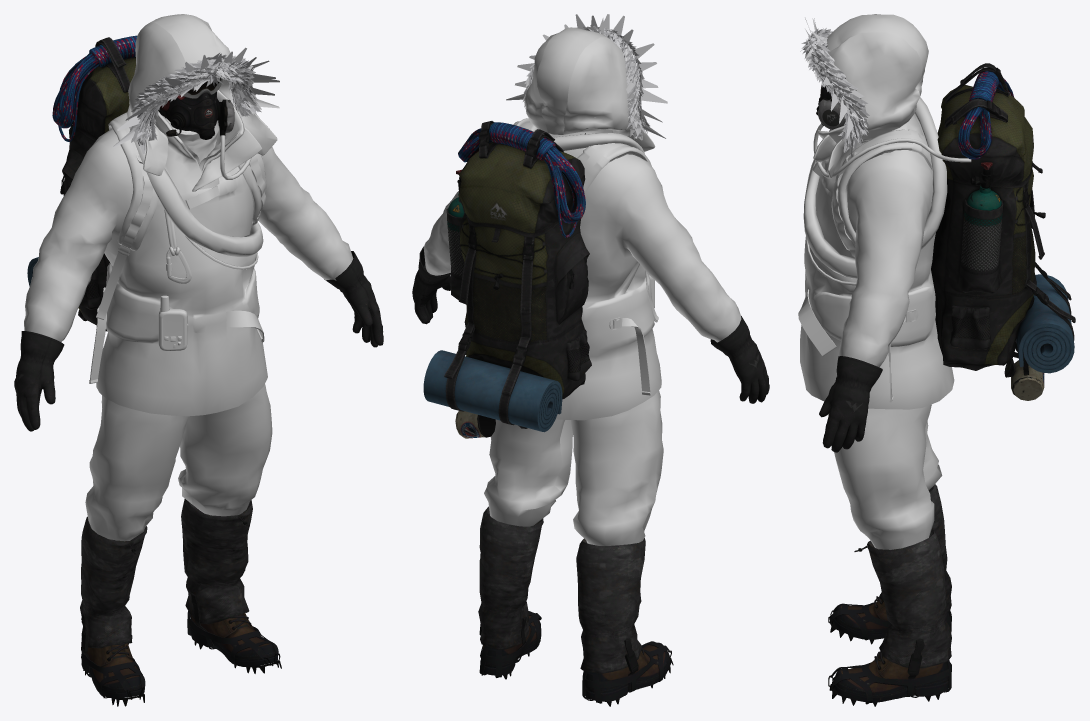
3 renders of one model, left to right at view 1: azimuth 30°, elevation 25°; view 2: azimuth 150°, elevation 25°; view 3: azimuth 270°, elevation 25°, orthographic. The views are drawn at different scales.
Visible parts, largest first — view 1: Body_LOD0, Boots_LOD0, Bag_LOD0, arctichazmat_furtrim_LOD0, Gloves_LOD0, Head_LOD0; view 2: Body_LOD0, Bag_LOD0, Boots_LOD0, Gloves_LOD0, arctichazmat_furtrim_LOD0; view 3: Body_LOD0, Bag_LOD0, Boots_LOD0, Gloves_LOD0, arctichazmat_furtrim_LOD0, Head_LOD0.
Part boxes in pixels (x1,y1,x2,y2): Body_LOD0: (24, 14, 353, 541); Boots_LOD0: (80, 499, 281, 706); Bag_LOD0: (27, 35, 137, 331); arctichazmat_furtrim_LOD0: (113, 47, 279, 153); Gloves_LOD0: (14, 251, 383, 431); Head_LOD0: (158, 78, 234, 139); Body_LOD0: (423, 27, 741, 545); Bag_LOD0: (423, 121, 591, 438); Boots_LOD0: (478, 506, 673, 706); Gloves_LOD0: (412, 246, 769, 403); arctichazmat_furtrim_LOD0: (506, 14, 667, 140); Body_LOD0: (798, 14, 971, 549); Bag_LOD0: (931, 63, 1075, 400); Boots_LOD0: (828, 484, 951, 706); Gloves_LOD0: (819, 356, 882, 452); arctichazmat_furtrim_LOD0: (800, 17, 869, 157); Head_LOD0: (816, 84, 845, 129).
Size of the model in its own units: 4.97 by 8.71 by 3.36.
